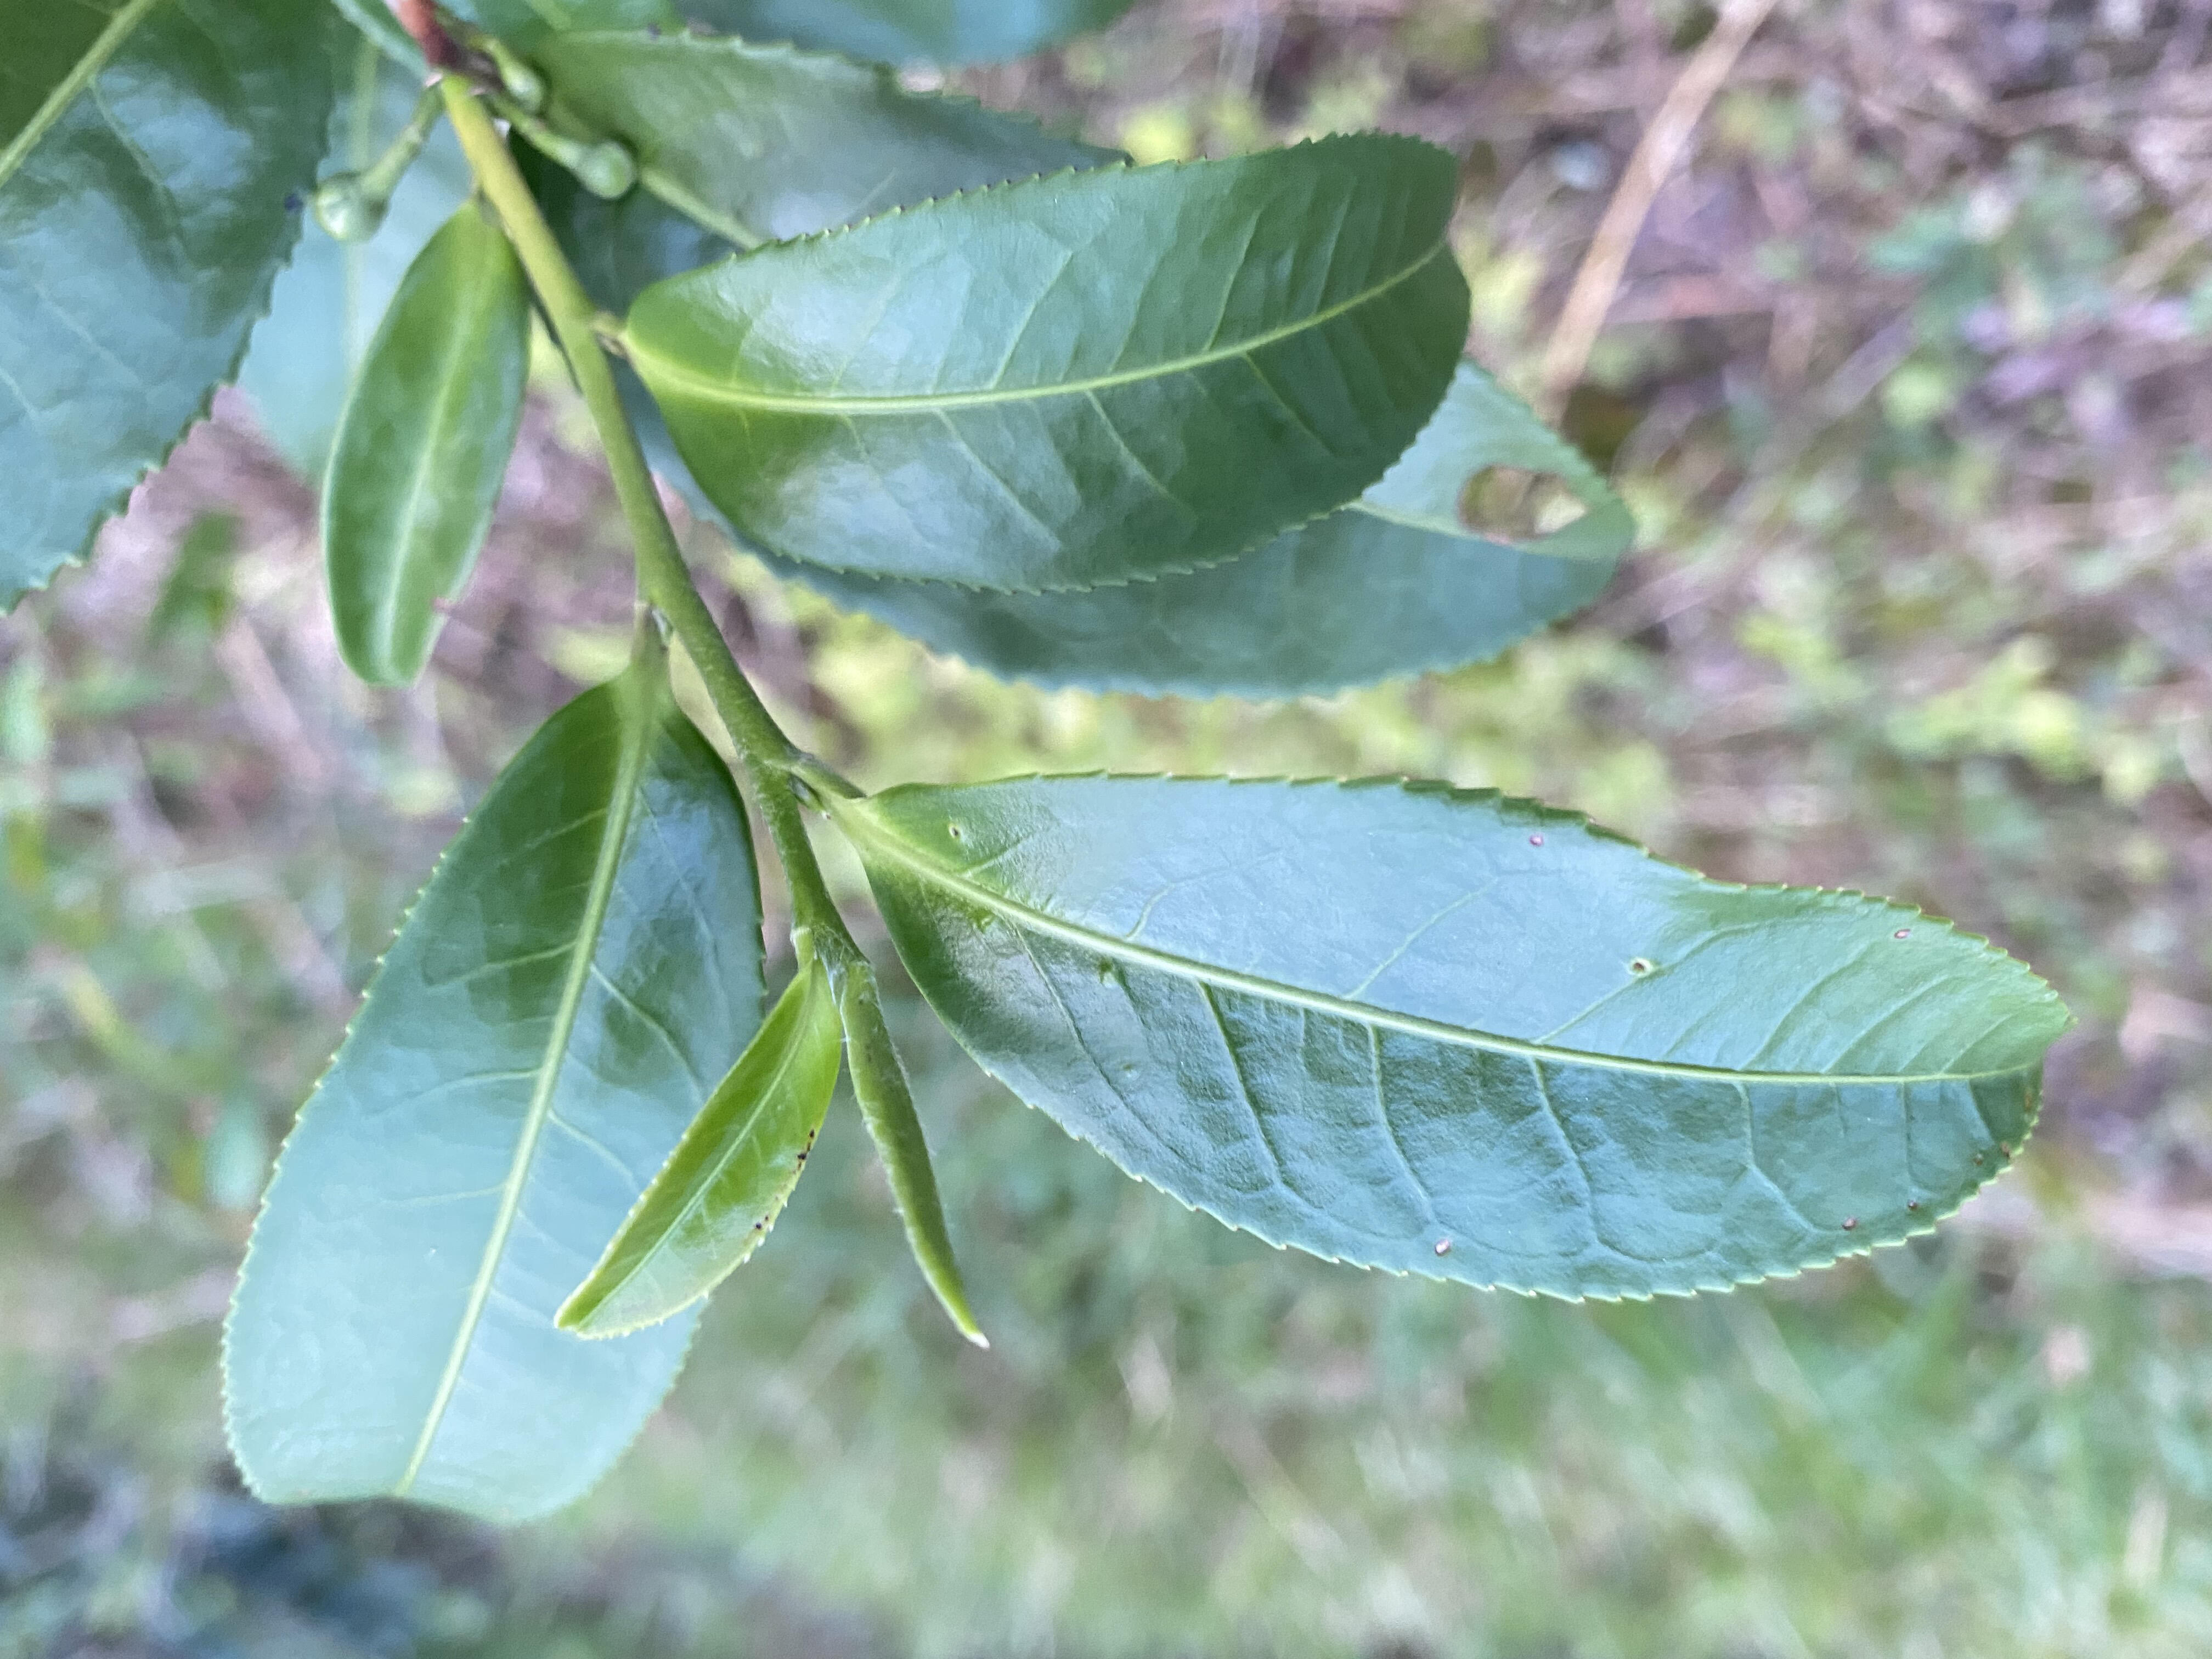healthy: (214, 674, 765, 1523), (632, 131, 1470, 592)
tanju_low: (862, 770, 2078, 1309), (554, 962, 841, 1337), (320, 204, 531, 692)
